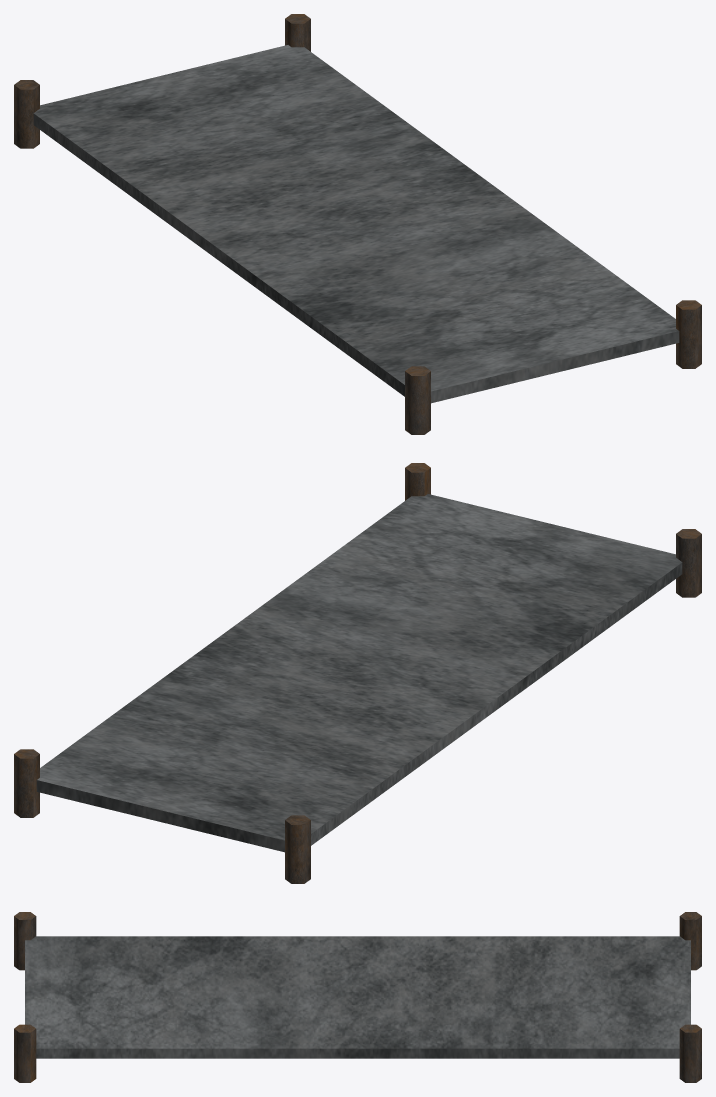
Rendered from Shelf_Top_03.fbx.
The picture shows the model from 3 angles, top to bottom: view 1: azimuth 30°, elevation 25°; view 2: azimuth 150°, elevation 25°; view 3: azimuth 270°, elevation 25°; orthographic projection. The views are drawn at different scales.
Parts seen in each view (by area): view 1: Cube, Object001, Object003, Object004, Object002; view 2: Cube, Object004, Object002, Object001, Object003; view 3: Cube, Object002, Object003, Object001, Object004.
Part boxes in pixels (left/top/right/bottom): Cube: left=33, top=45, right=679, bottom=403; Object001: left=405, top=366, right=430, bottom=434; Object003: left=676, top=300, right=701, bottom=368; Object004: left=14, top=80, right=39, bottom=148; Object002: left=285, top=14, right=310, bottom=51; Cube: left=36, top=494, right=682, bottom=852; Object004: left=285, top=815, right=310, bottom=883; Object002: left=14, top=749, right=39, bottom=817; Object001: left=676, top=529, right=701, bottom=597; Object003: left=405, top=463, right=430, bottom=500; Cube: left=25, top=936, right=690, bottom=1058; Object002: left=679, top=1024, right=701, bottom=1082; Object003: left=14, top=1024, right=36, bottom=1082; Object001: left=14, top=912, right=36, bottom=970; Object004: left=679, top=912, right=701, bottom=970.
Bounding box in the file's own units: 50.65 × 9.84 × 122.
